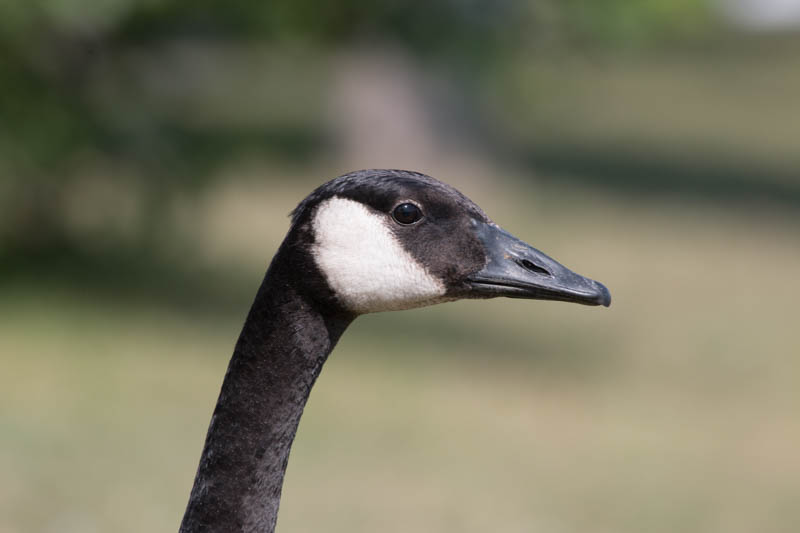goose-head: (282, 169, 610, 313)
